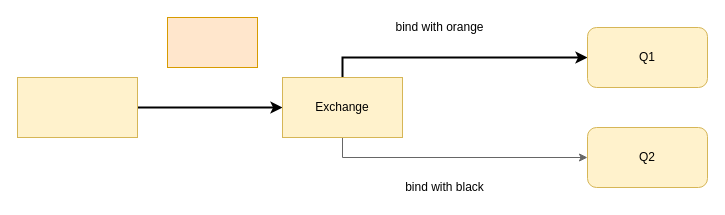
The diagram is 725 pixels wide and 215 high, and some of its shapes have lost their labels. Here are the shapes that lost their labels. From the top down, the centre of each, then its label:
[212,42]: Message (orange)
[77,107]: Producer
